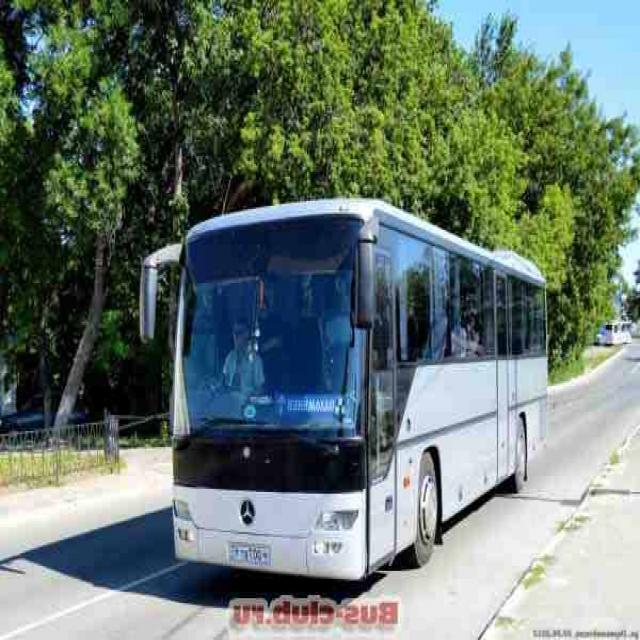bus: (138, 196, 554, 587)
